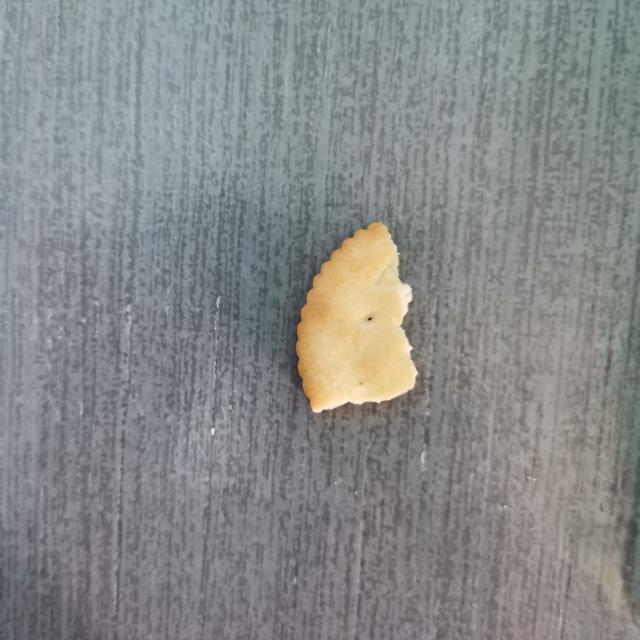Broken: (295, 220, 418, 413)
